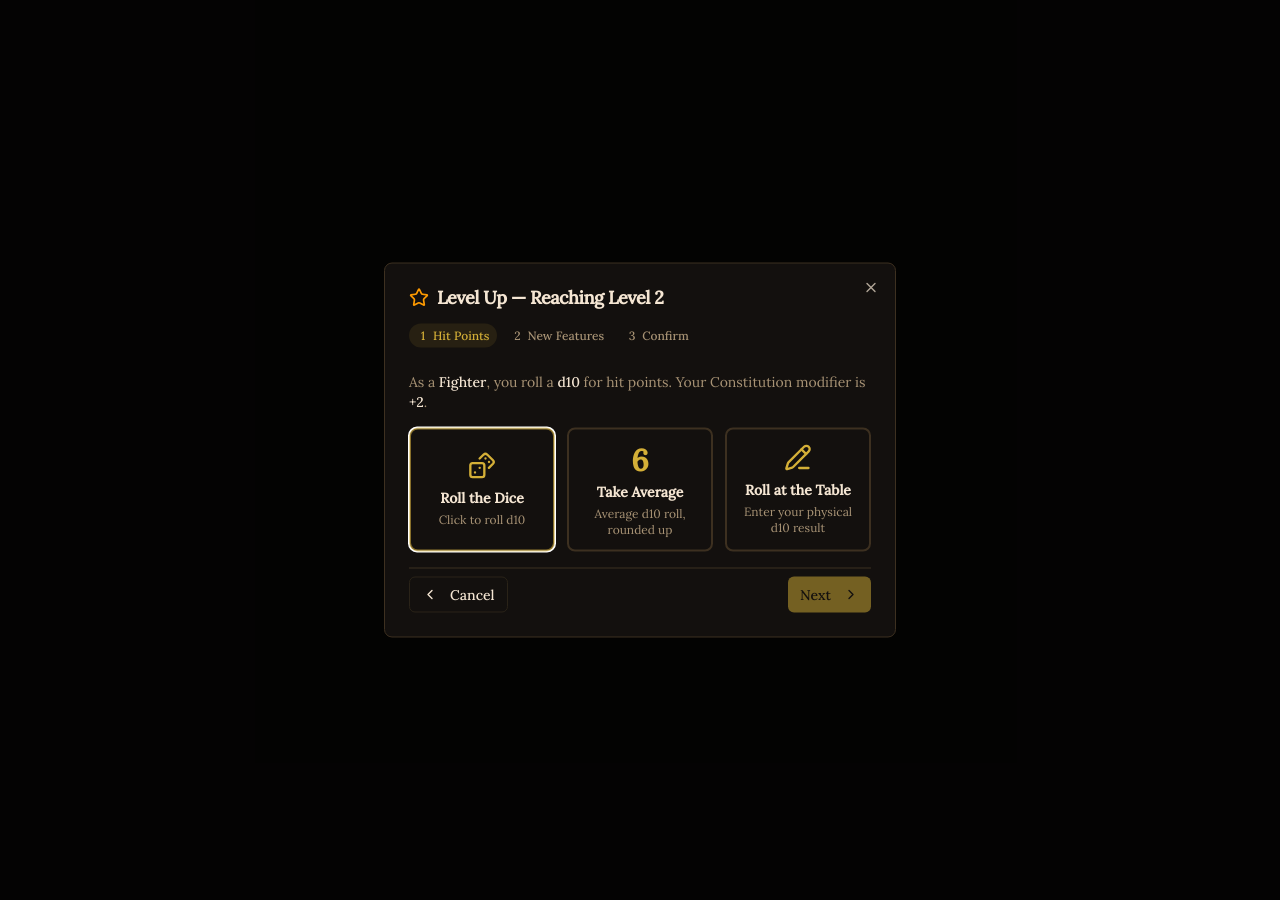
Scenario: LevelUpWizard › HP step — methods and lock-in › locks the other methods once the dice are rolled (no roll-then-switch)
Click the button with test id "hp-method-roll" at (482, 490), box top-left (409, 428), bottom-right (555, 552)
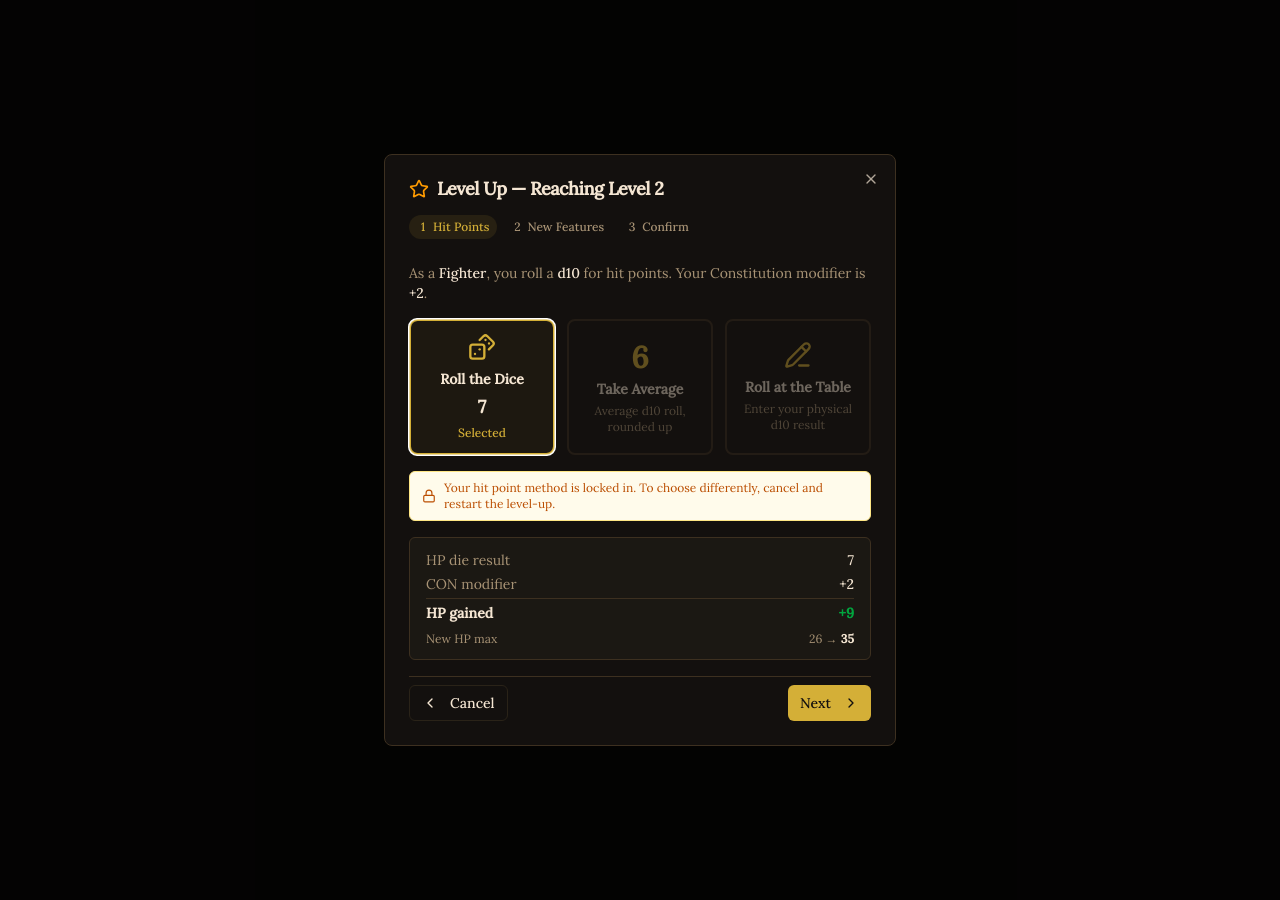
Check: the button with test id "hp-method-average" is disabled, box top-left (567, 319), bottom-right (713, 455)
Check: the button with test id "hp-method-manual" is disabled, box top-left (725, 319), bottom-right (871, 455)
